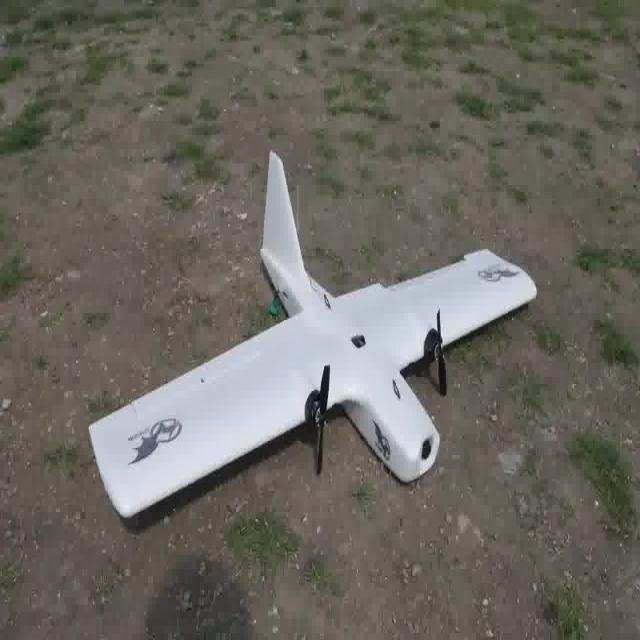iha: (87, 147, 539, 529)
